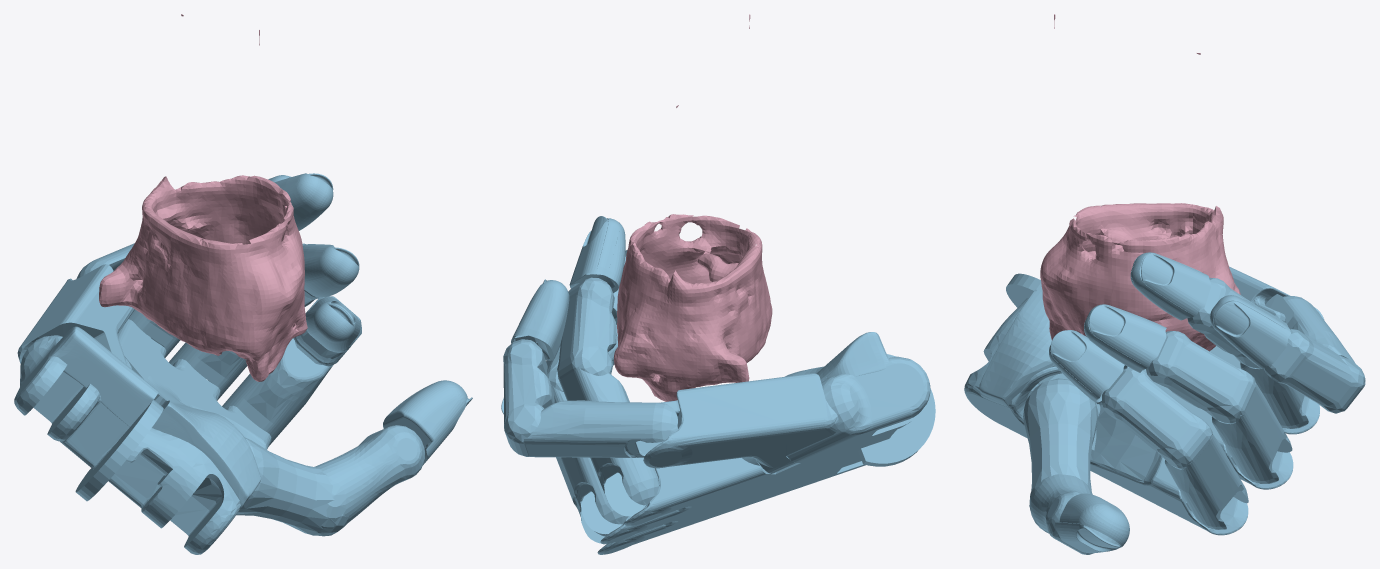
3 views of the same model, side by side, from view 1: azimuth 30°, elevation 25°; view 2: azimuth 150°, elevation 25°; view 3: azimuth 270°, elevation 25° (orthographic). The views are drawn at different scales.
Parts seen in each view (by area): view 1: hand, world; view 2: hand, world; view 3: hand, world.
Boxes of the visible parts, bbox=[...] form: hand: bbox=[14, 173, 472, 554]; world: bbox=[99, 14, 307, 381]; hand: bbox=[501, 216, 935, 554]; world: bbox=[614, 14, 772, 401]; hand: bbox=[964, 206, 1365, 554]; world: bbox=[1040, 14, 1240, 351].
Size of the model in its own units: 0.168 by 0.1865 by 0.1378.
